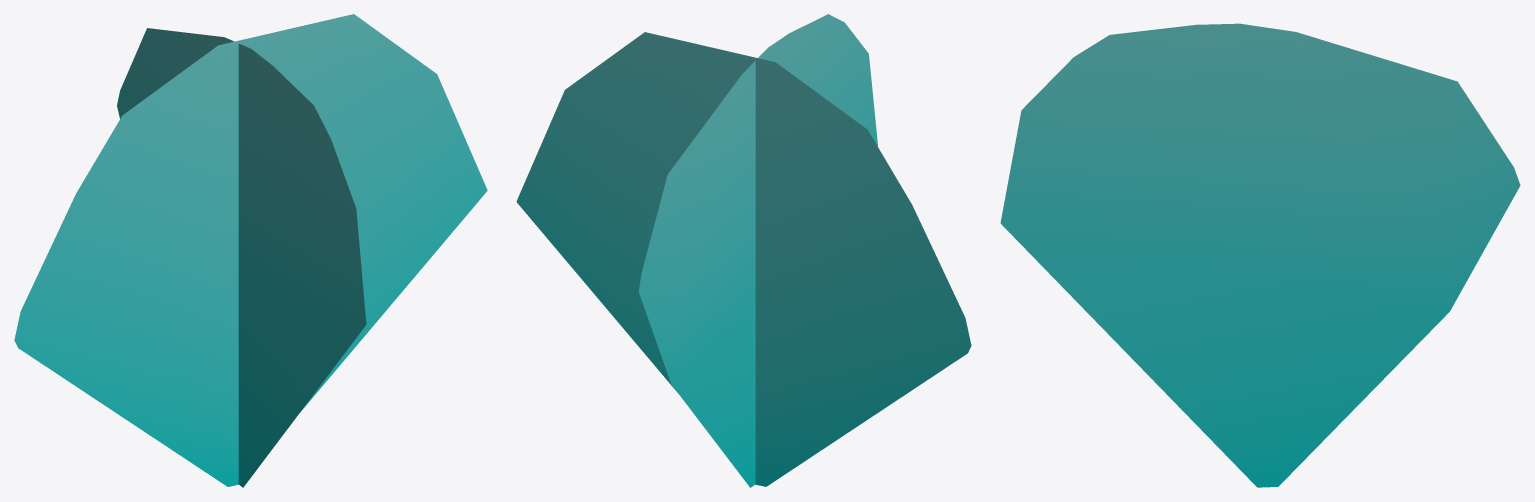
Rendered from wk1ncbxja_VarC_LOD2.fbx.
The picture shows the model from 3 angles, left to right: view 1: azimuth 30°, elevation 25°; view 2: azimuth 150°, elevation 25°; view 3: azimuth 270°, elevation 25°; orthographic projection. The views are drawn at different scales.
Parts seen in each view (by area): view 1: _scq9_VarC_LOD4; view 2: _scq9_VarC_LOD4; view 3: _scq9_VarC_LOD4.
Boxes of the visible parts, x1=… form: _scq9_VarC_LOD4: x1=14, y1=14, x2=487, y2=487; _scq9_VarC_LOD4: x1=516, y1=14, x2=971, y2=487; _scq9_VarC_LOD4: x1=1000, y1=23, x2=1520, y2=487.
Size of the model in its own units: 320 by 287 by 292.
